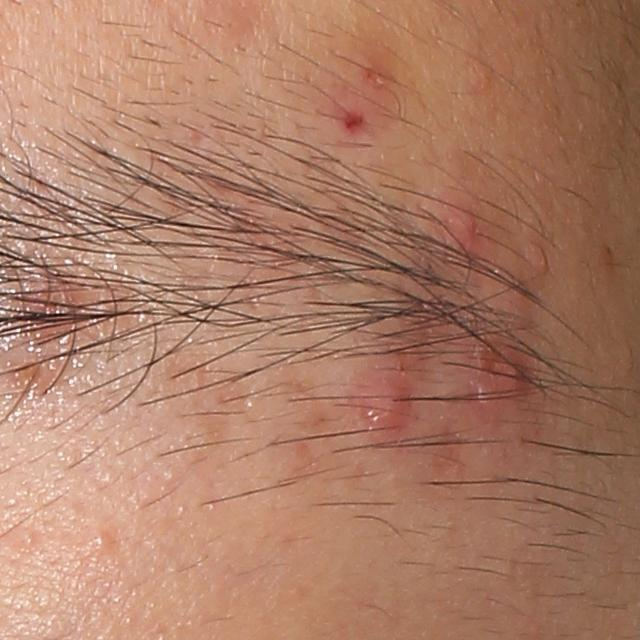papule: (358, 371, 412, 444), (486, 349, 532, 408)
